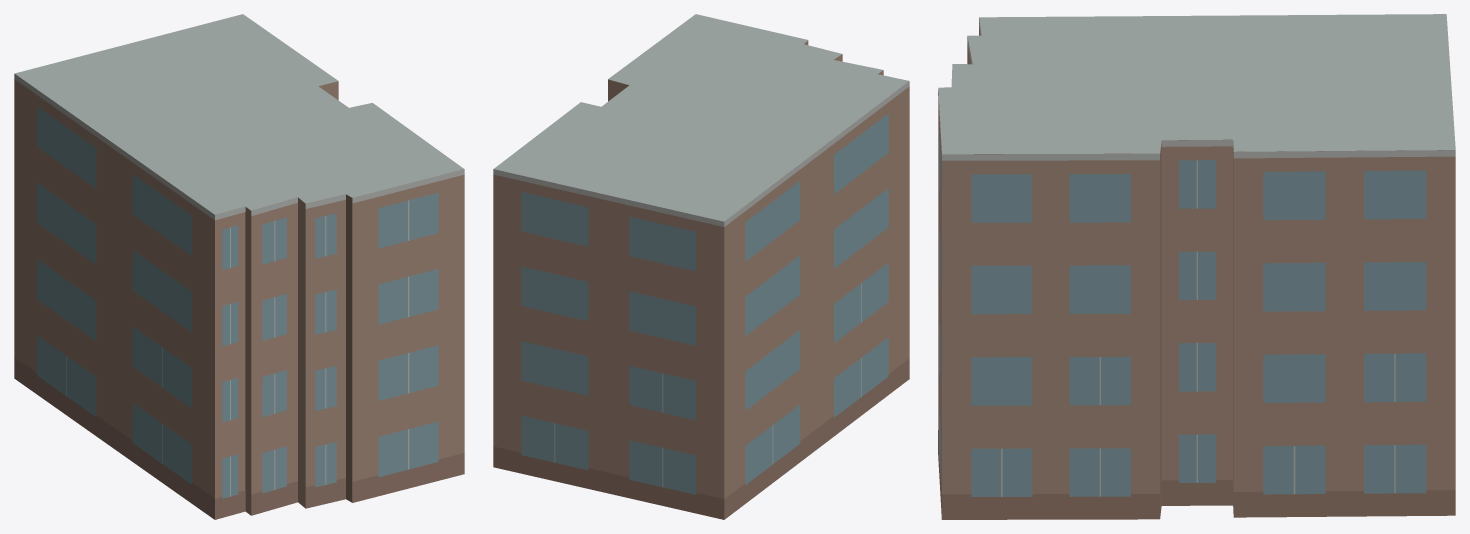
The model's file is survey-upis-32703178.glb.
The picture shows the model from 3 angles, left to right: view 1: azimuth 30°, elevation 25°; view 2: azimuth 150°, elevation 25°; view 3: azimuth 270°, elevation 25°; orthographic projection. The views are drawn at different scales.
Parts seen in each view (by area): view 1: survey-upis-32703178.tmp; view 2: survey-upis-32703178.tmp; view 3: survey-upis-32703178.tmp.
Boxes of the visible parts, bbox=[...] form: survey-upis-32703178.tmp: bbox=[14, 14, 464, 519]; survey-upis-32703178.tmp: bbox=[493, 14, 909, 519]; survey-upis-32703178.tmp: bbox=[938, 14, 1455, 519].
Size of the model in its own units: 11.11 by 13.5 by 17.33.
